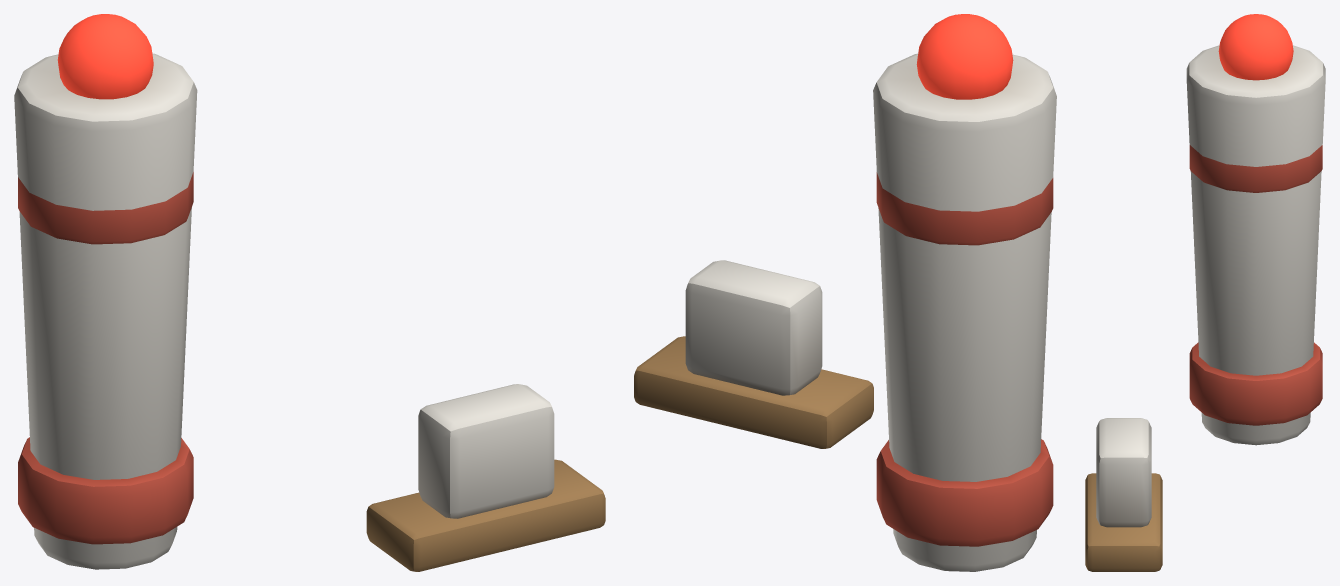
The picture shows the model from 3 angles, left to right: view 1: azimuth 30°, elevation 25°; view 2: azimuth 150°, elevation 25°; view 3: azimuth 270°, elevation 25°; orthographic projection. The views are drawn at different scales.
Visible parts, largest first — view 1: landmark_552d2624; view 2: landmark_552d2624; view 3: landmark_552d2624.
Part boxes in pixels (<box>): landmark_552d2624: <box>14,14,605,571</box>; landmark_552d2624: <box>634,14,1056,571</box>; landmark_552d2624: <box>1085,14,1325,571</box>.
Bounding box in the file's own units: 3.85 × 4.09 × 2.18.
